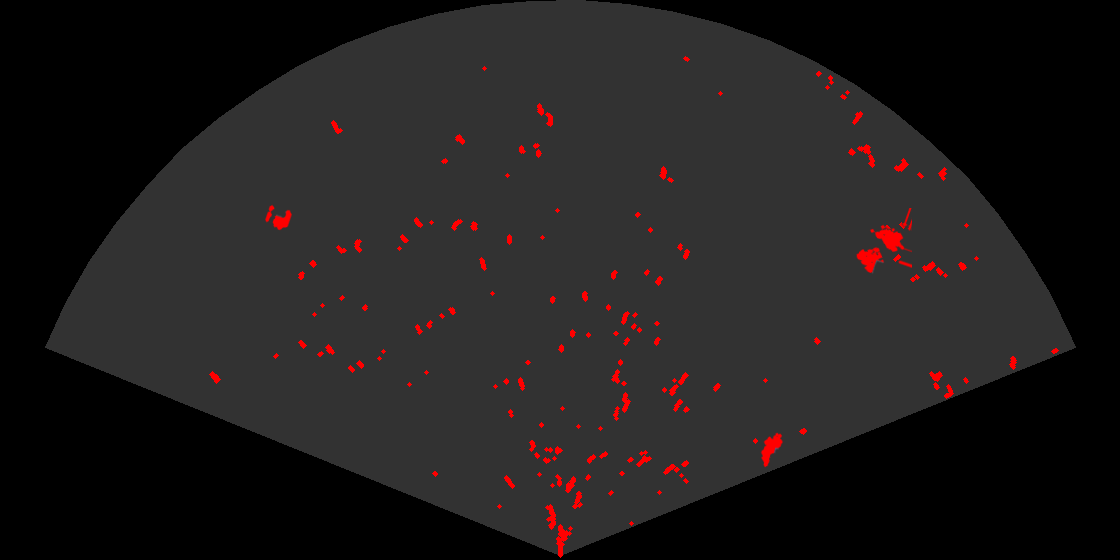AUV: (759, 431, 785, 469)
ball: (264, 203, 294, 232)
cage: (855, 208, 912, 275)
